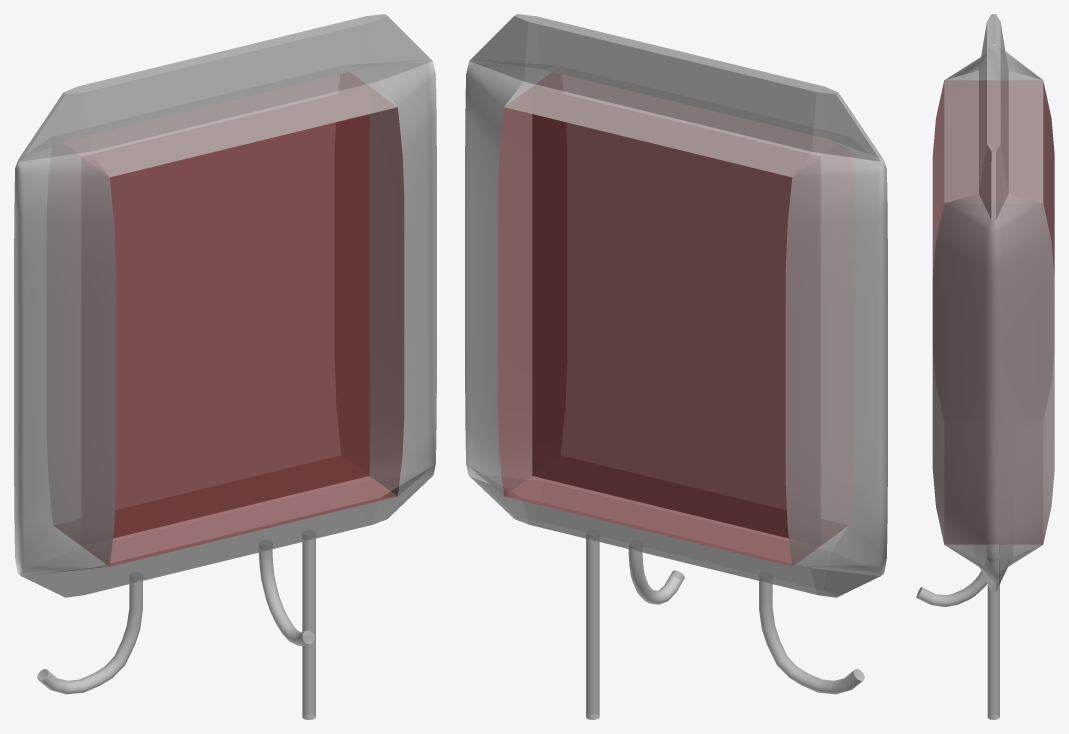
File: Transfusion.fbx
3 renders of one model, left to right at view 1: azimuth 30°, elevation 25°; view 2: azimuth 150°, elevation 25°; view 3: azimuth 270°, elevation 25°, orthographic. The views are drawn at different scales.
Visible parts, largest first — view 1: pCube2; view 2: pCube2; view 3: pCube2.
Part boxes in pixels (x1,y1,x2,y2): pCube2: (14,14,436,719); pCube2: (465,14,887,719); pCube2: (916,14,1054,719).
Size of the model in its own units: 5.97 by 9.46 by 1.98.
